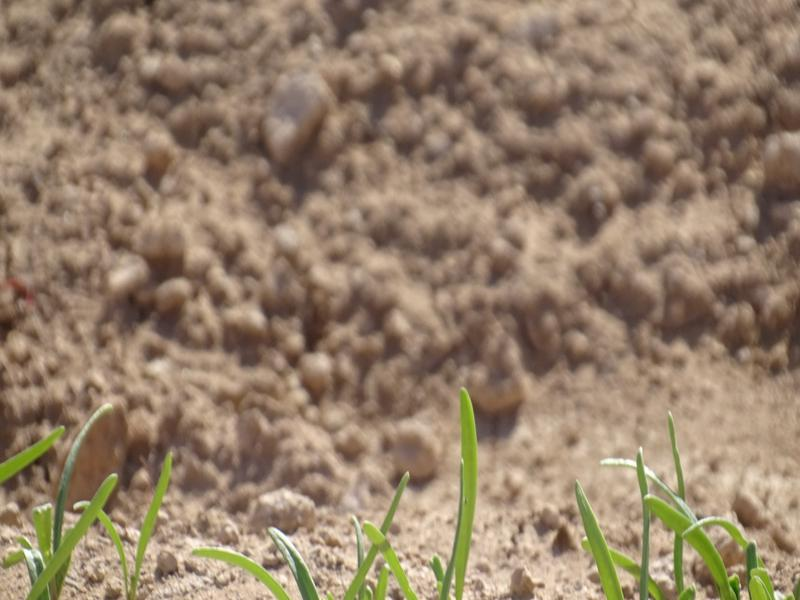Espinaca: (569, 413, 779, 599), (3, 408, 169, 591), (192, 477, 414, 600), (448, 390, 478, 600)
